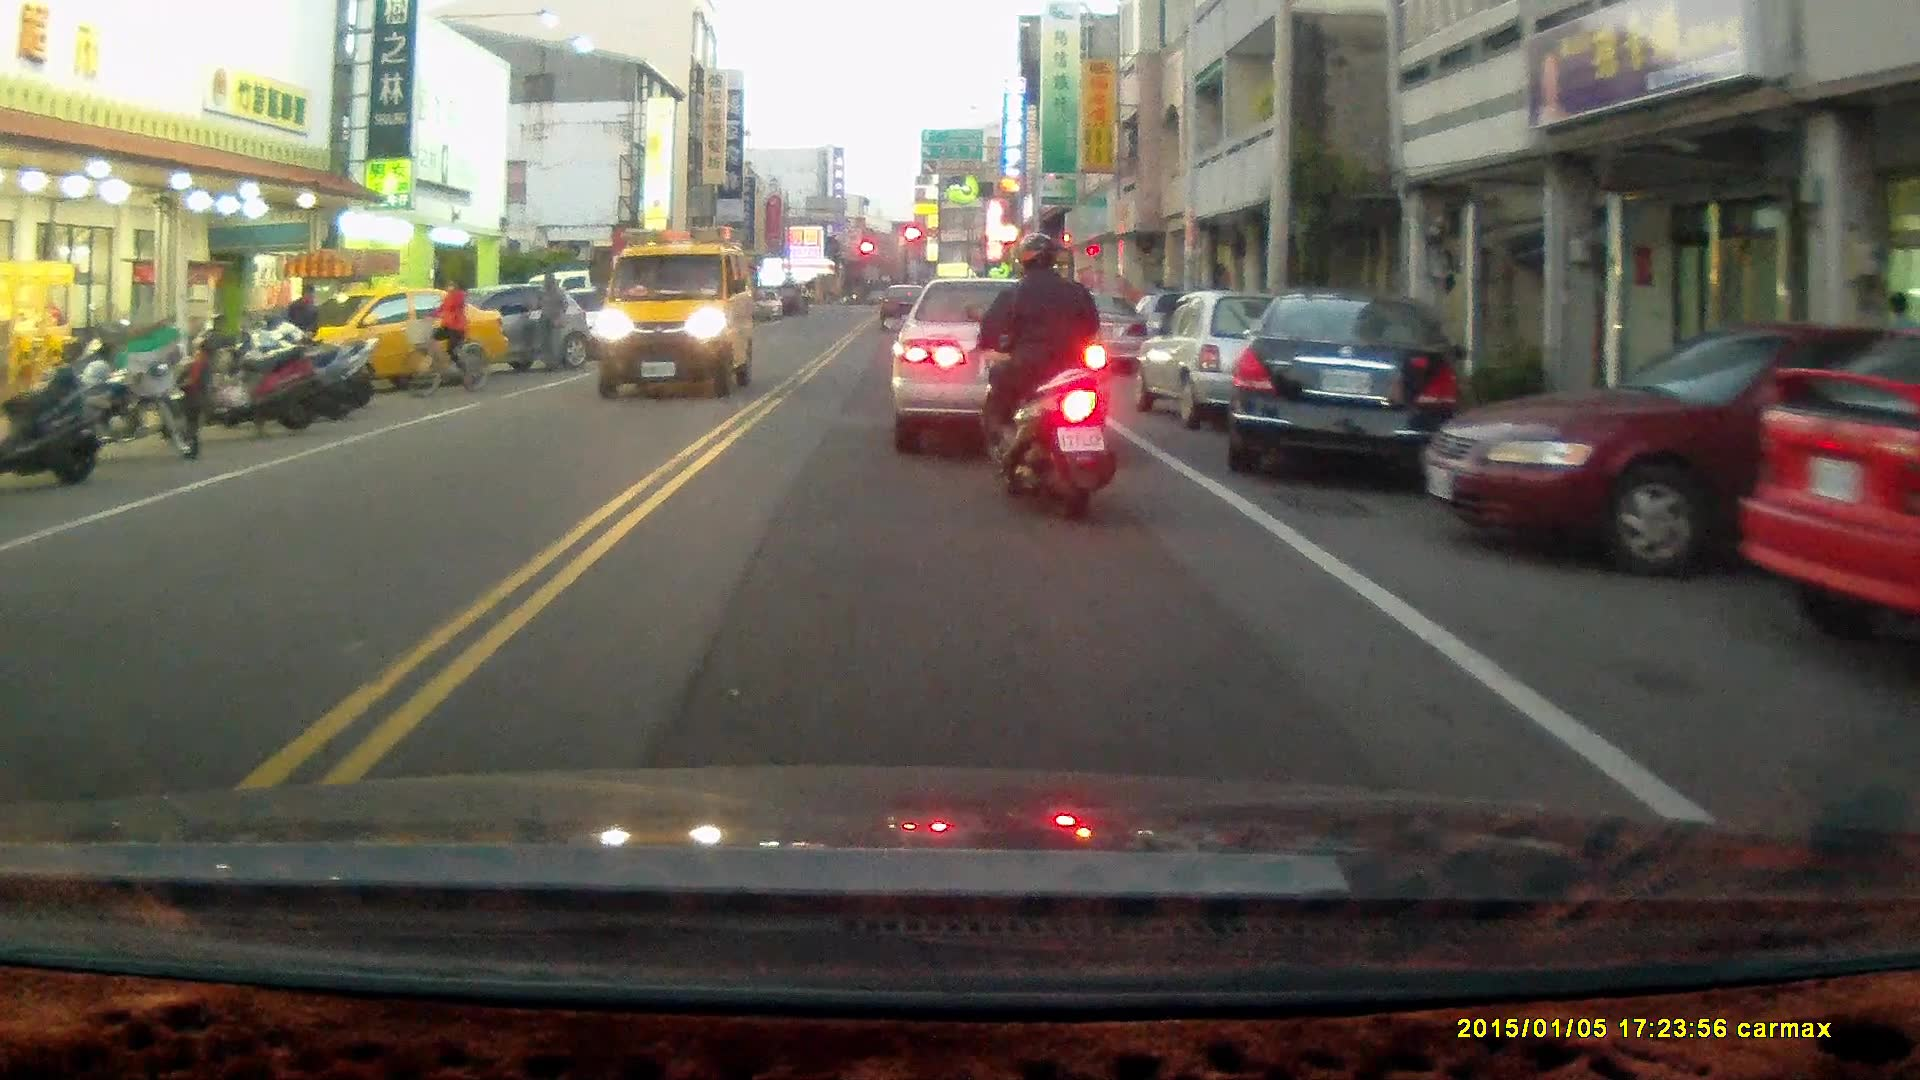pedestrian: (531, 271, 568, 373), (282, 283, 322, 374)
rider: (963, 228, 1121, 527), (399, 275, 495, 403)
vehicle: (1434, 318, 1912, 582), (1744, 326, 1920, 667), (1227, 289, 1473, 483), (896, 269, 1117, 443), (1129, 289, 1335, 434), (595, 233, 754, 399), (309, 288, 511, 390)
